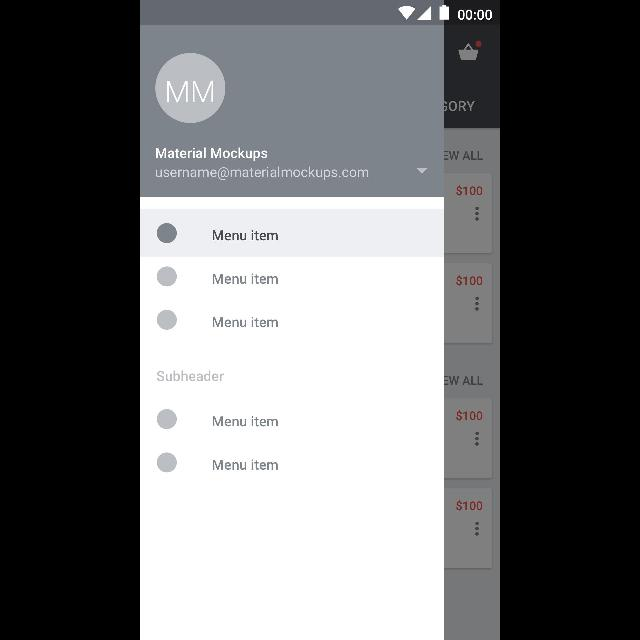icon: (156, 222, 178, 244), (156, 452, 178, 472), (156, 409, 178, 429), (156, 266, 178, 286), (157, 310, 177, 330), (416, 168, 428, 174)
image: (156, 54, 226, 122)
panel: (140, 25, 444, 640)
text: (156, 167, 368, 181), (156, 148, 268, 162), (156, 370, 224, 382), (211, 415, 279, 427), (213, 230, 279, 242), (212, 316, 278, 328), (213, 459, 279, 471), (213, 274, 279, 284)
uppertaskbar: (140, 1, 500, 25)
